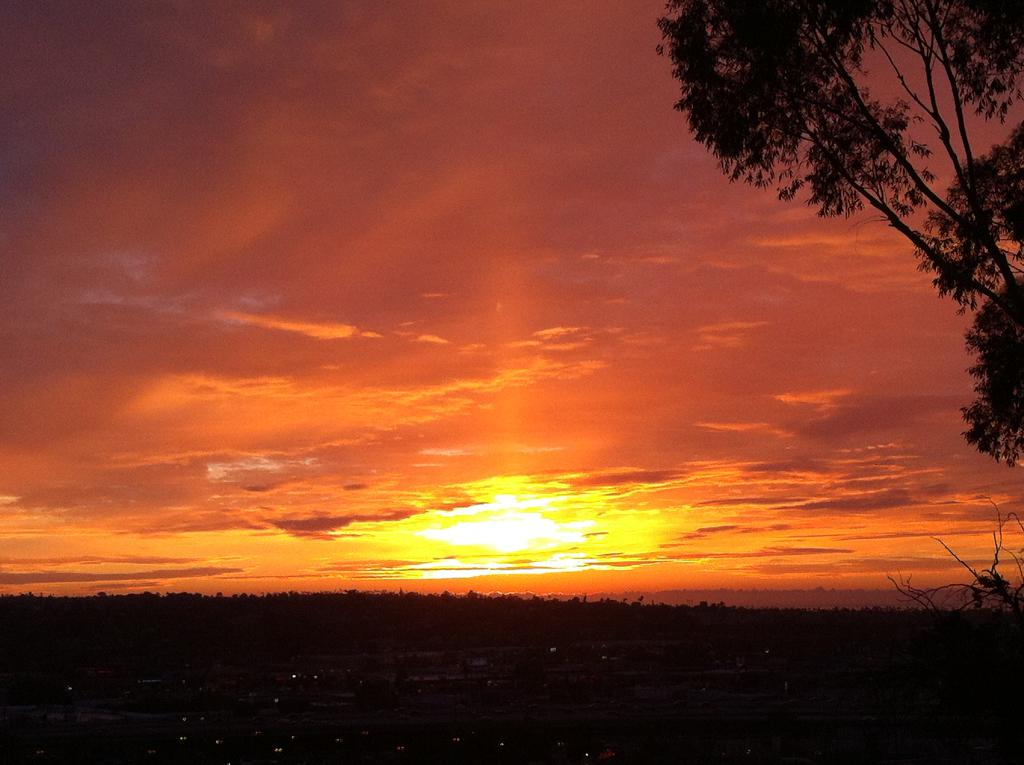Tree: (677, 8, 1013, 500)
